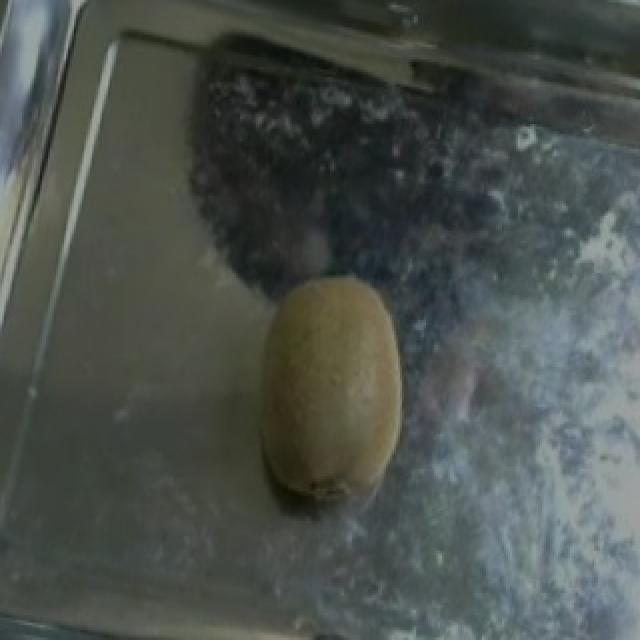Fruit: (222, 240, 442, 536)
